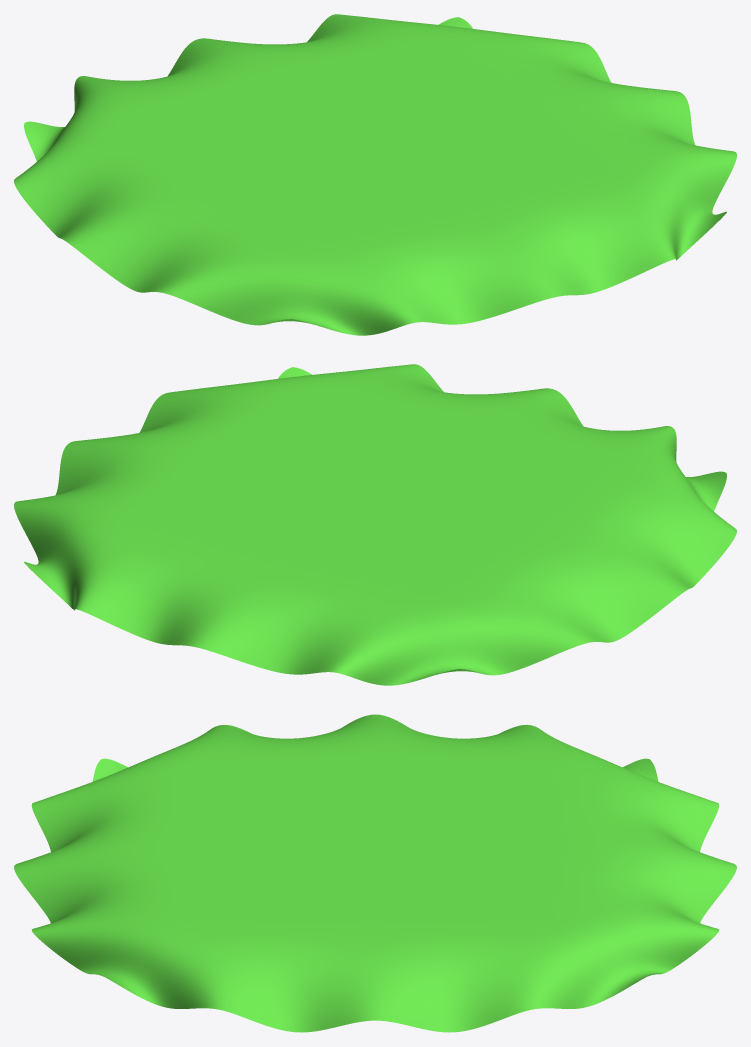
File: Lechuga.glb
The picture shows the model from 3 angles, top to bottom: view 1: azimuth 30°, elevation 25°; view 2: azimuth 150°, elevation 25°; view 3: azimuth 270°, elevation 25°; orthographic projection. The views are drawn at different scales.
Parts seen in each view (by area): view 1: Lechuga; view 2: Lechuga; view 3: Lechuga.
Part boxes in pixels (x1,y1,x2,y2): Lechuga: (14,14,736,335); Lechuga: (14,364,736,685); Lechuga: (14,714,736,1032).
Size of the model in its own units: 2.13 by 0.1498 by 2.13.
